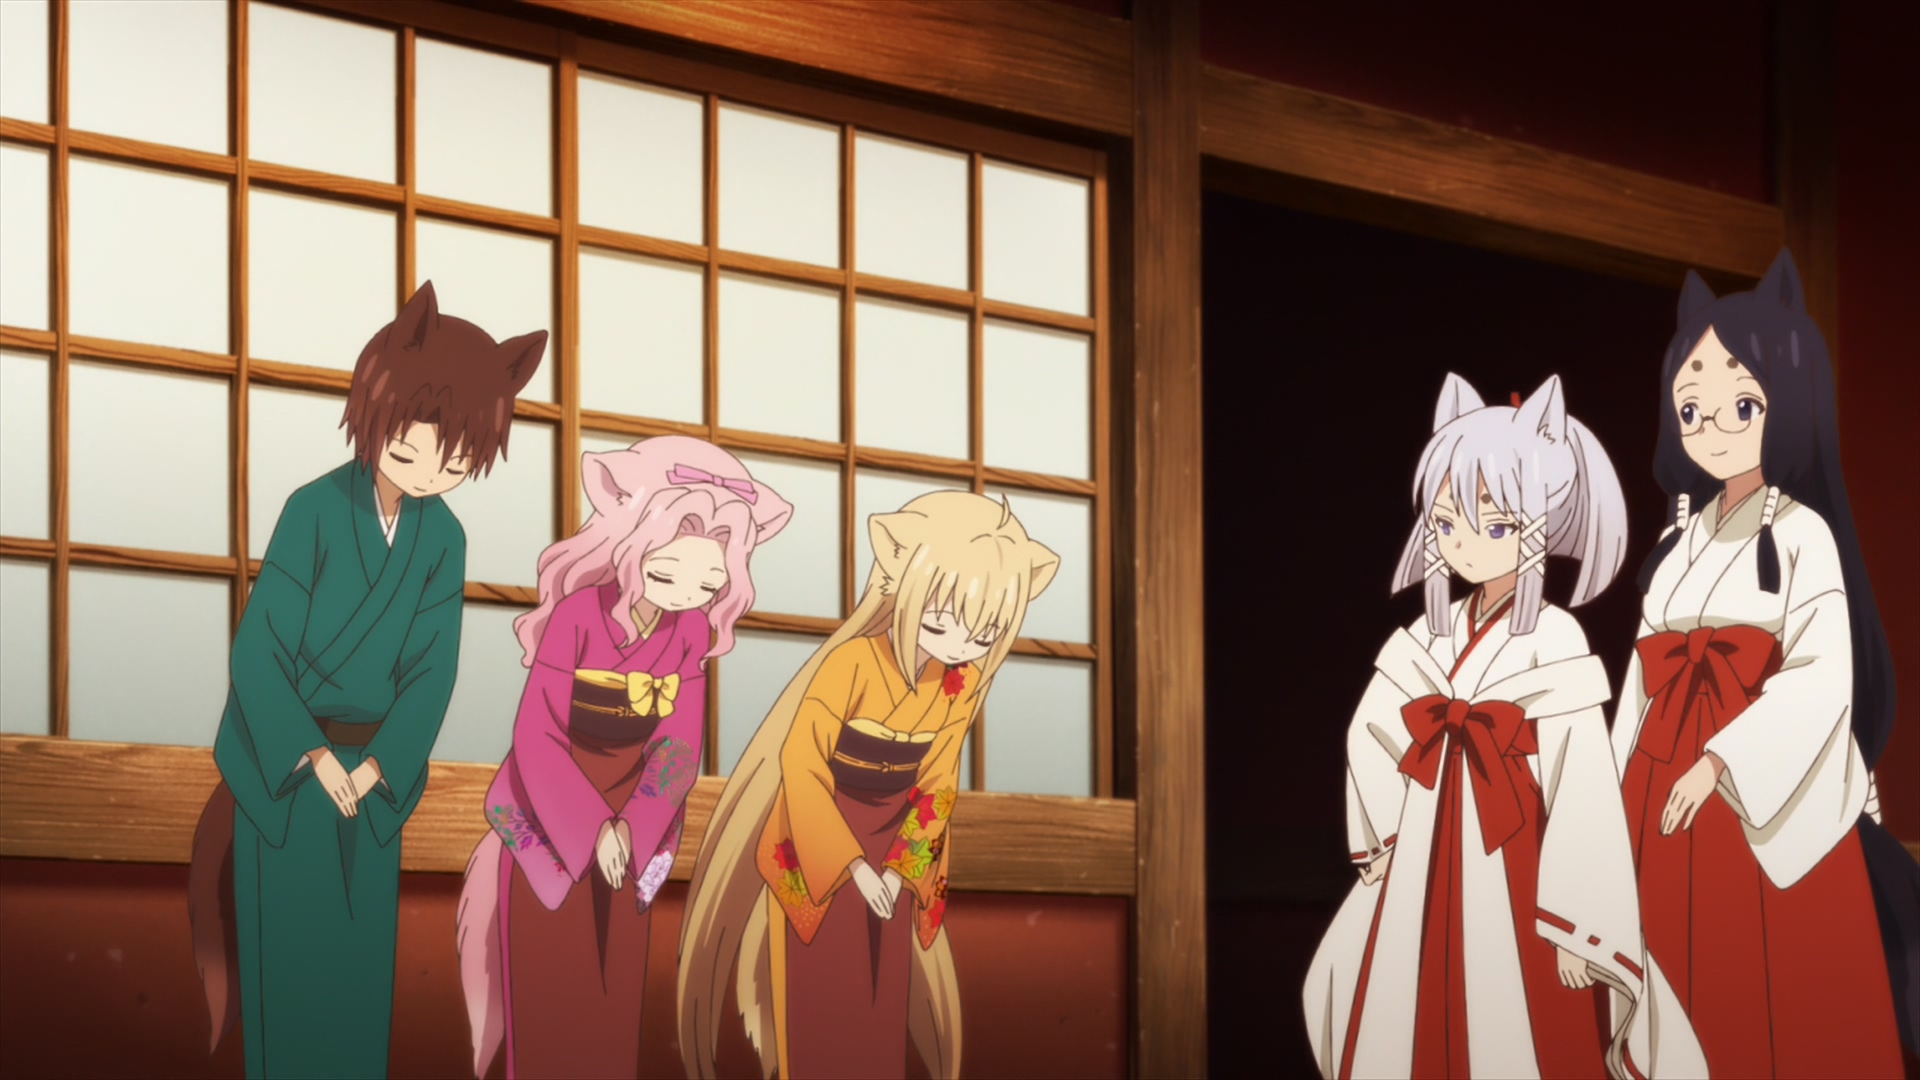枣: (189, 282, 549, 1080)
柊: (1304, 372, 1706, 1080)
柚: (674, 491, 1062, 1080)
莲: (455, 434, 793, 1080)
菖: (1611, 248, 1920, 1080)
